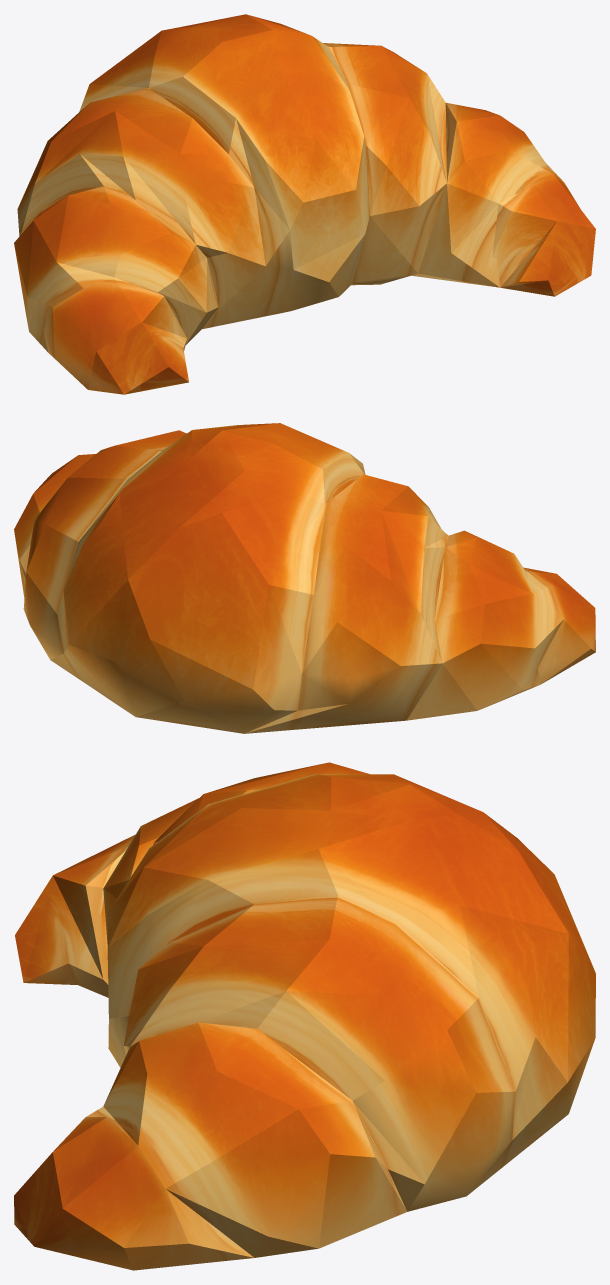
The model's file is source.fbx.
3 renders of one model, top to bottom at view 1: azimuth 30°, elevation 25°; view 2: azimuth 150°, elevation 25°; view 3: azimuth 270°, elevation 25°, orthographic. The views are drawn at different scales.
Visible parts, largest first — view 1: output_unwrapped; view 2: output_unwrapped; view 3: output_unwrapped.
Part boxes in pixels (x1,y1,x2,y2): output_unwrapped: [14, 14, 595, 394]; output_unwrapped: [14, 423, 595, 733]; output_unwrapped: [14, 762, 595, 1270].
Size of the model in its own units: 45.31 by 18 by 31.17.
Materials: 1 (1 with a texture image).
